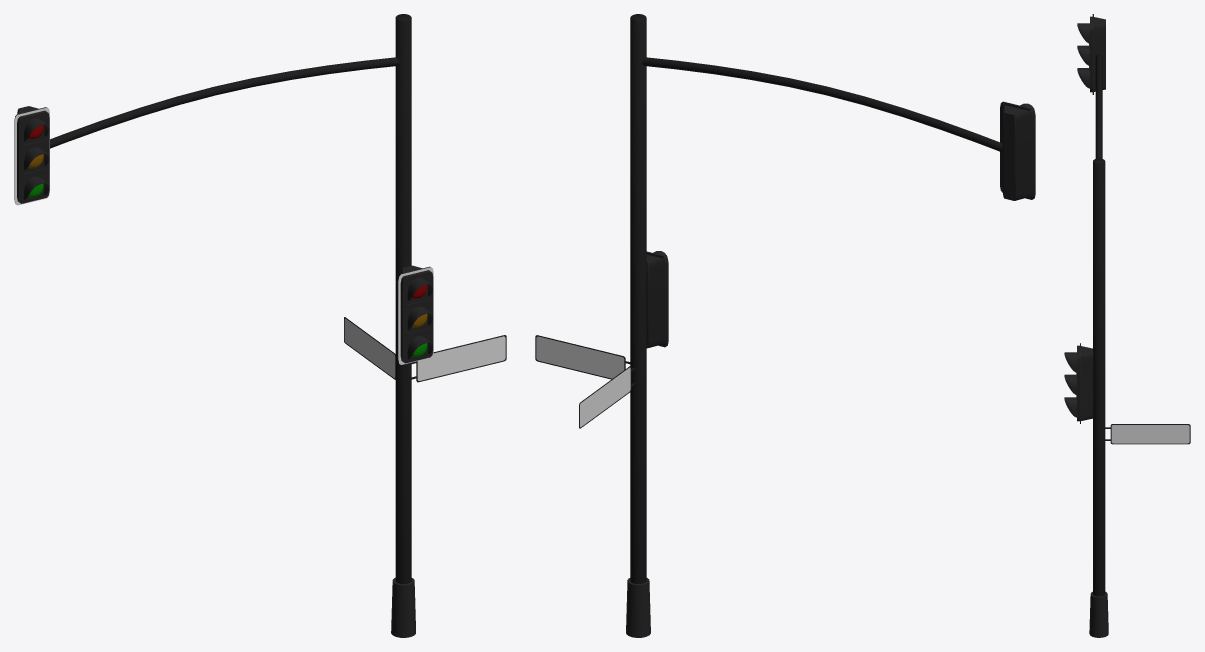
The model's file is Traffic Light.fbx.
3 views of the same model, side by side, from view 1: azimuth 30°, elevation 25°; view 2: azimuth 150°, elevation 25°; view 3: azimuth 270°, elevation 25° (orthographic). The views are drawn at different scales.
Parts seen in each view (by area): view 1: Traffic_Light; view 2: Traffic_Light; view 3: Traffic_Light.
Boxes of the visible parts, left/top/right/bottom form: Traffic_Light: left=14, top=14, right=506, bottom=637; Traffic_Light: left=535, top=14, right=1035, bottom=637; Traffic_Light: left=1064, top=14, right=1190, bottom=637.
Bounding box in the file's own units: 360 × 427 × 103.
